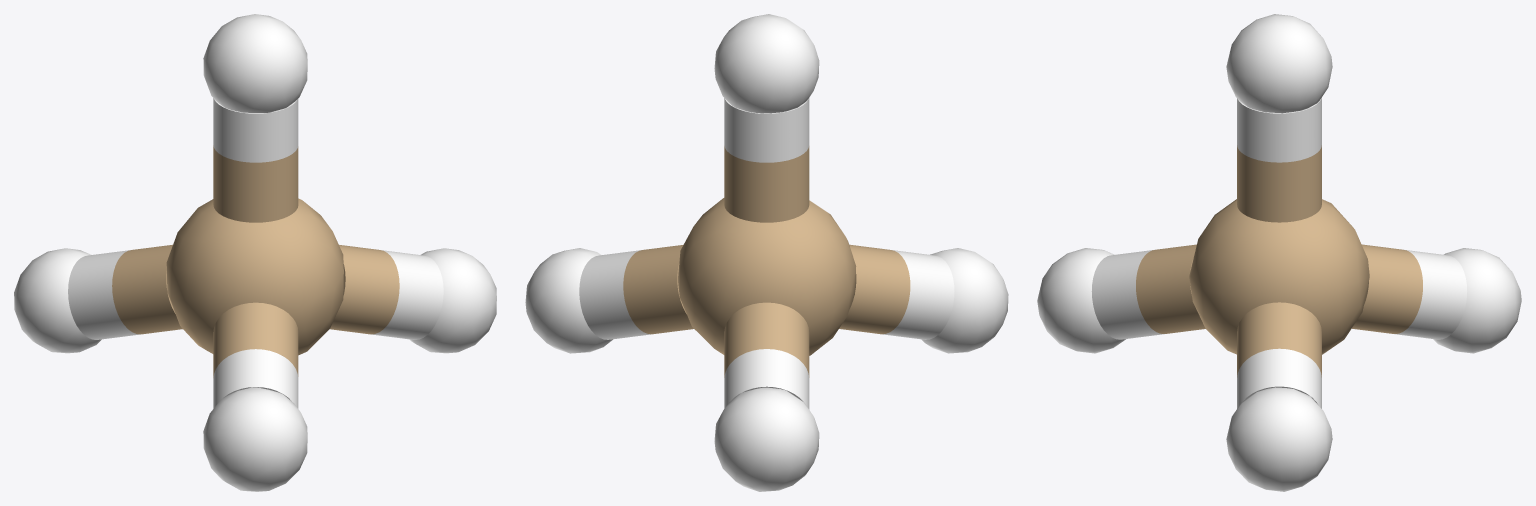
3 views of the same model, side by side, from view 1: azimuth 30°, elevation 25°; view 2: azimuth 150°, elevation 25°; view 3: azimuth 270°, elevation 25° (orthographic).
Visible parts, largest first — view 1: subnode_0, subnode_3, subnode_1, subnode_4, subnode_2, subnode_5, subnode_7, subnode_11, subnode_6, subnode_9, subnode_12, subnode_8 (+1 smaller); view 2: subnode_0, subnode_4, subnode_1, subnode_2, subnode_3, subnode_5, subnode_7, subnode_9, subnode_6, subnode_11, subnode_10, subnode_8 (+1 smaller); view 3: subnode_0, subnode_2, subnode_1, subnode_4, subnode_3, subnode_5, subnode_9, subnode_11, subnode_6, subnode_7, subnode_10, subnode_12 (+1 smaller).
Boxes of the visible parts, x1,y1,x2,y2 form: subnode_0: (166,198,343,355); subnode_3: (203,387,307,491); subnode_1: (203,14,307,112); subnode_4: (14,248,101,353); subnode_2: (409,248,496,353); subnode_5: (213,145,298,222); subnode_7: (330,245,399,334); subnode_11: (112,244,182,334); subnode_6: (213,98,298,162); subnode_9: (213,302,298,377); subnode_12: (68,250,140,339); subnode_8: (371,250,443,339); subnode_0: (678,198,856,355); subnode_4: (714,387,819,491); subnode_1: (714,14,819,113); subnode_2: (525,248,612,353); subnode_3: (921,248,1008,353); subnode_5: (724,146,809,222); subnode_7: (623,245,693,334); subnode_9: (839,244,910,334); subnode_6: (724,98,809,162); subnode_11: (724,302,809,377); subnode_10: (883,250,954,339); subnode_8: (579,250,650,339); subnode_0: (1189,199,1369,354); subnode_2: (1226,387,1332,491); subnode_1: (1226,14,1332,113); subnode_4: (1433,248,1521,353); subnode_3: (1037,248,1125,353); subnode_5: (1237,145,1321,222); subnode_9: (1136,244,1205,333); subnode_11: (1352,244,1422,333); subnode_6: (1237,97,1321,162); subnode_7: (1237,302,1321,377); subnode_10: (1091,250,1164,339); subnode_12: (1394,250,1467,339).
Size of the model in its own units: 2.04 by 1.95 by 2.28.
